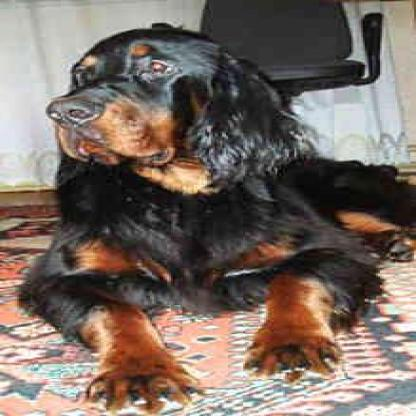Gordon_setter: (13, 16, 412, 414)
